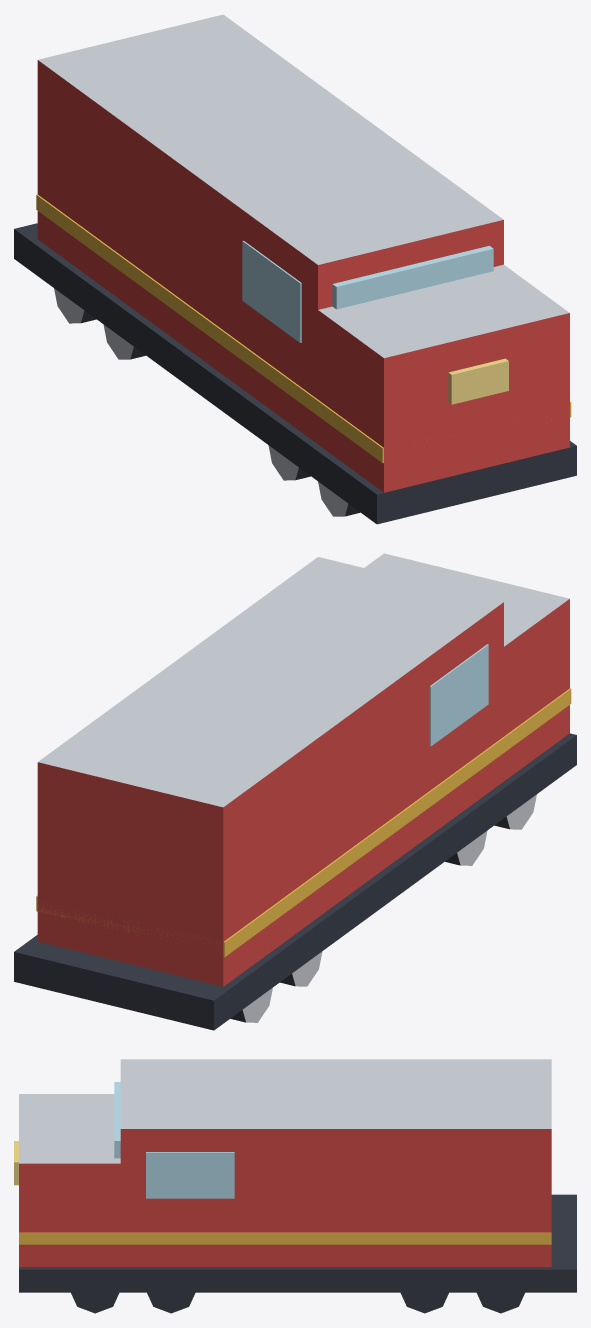
Rendered from vehicle_train_locomotive.glb.
3 renders of one model, top to bottom at view 1: azimuth 30°, elevation 25°; view 2: azimuth 150°, elevation 25°; view 3: azimuth 270°, elevation 25°, orthographic. The views are drawn at different scales.
Parts seen in each view (by area): view 1: vehicle_train_locomotive; view 2: vehicle_train_locomotive; view 3: vehicle_train_locomotive.
Part boxes in pixels (left/top/right/bottom): vehicle_train_locomotive: left=14, top=14, right=576, bottom=524; vehicle_train_locomotive: left=14, top=553, right=576, bottom=1030; vehicle_train_locomotive: left=14, top=1059, right=576, bottom=1313.
Bounding box in the file's own units: 0.14 × 0.16 × 0.444.
